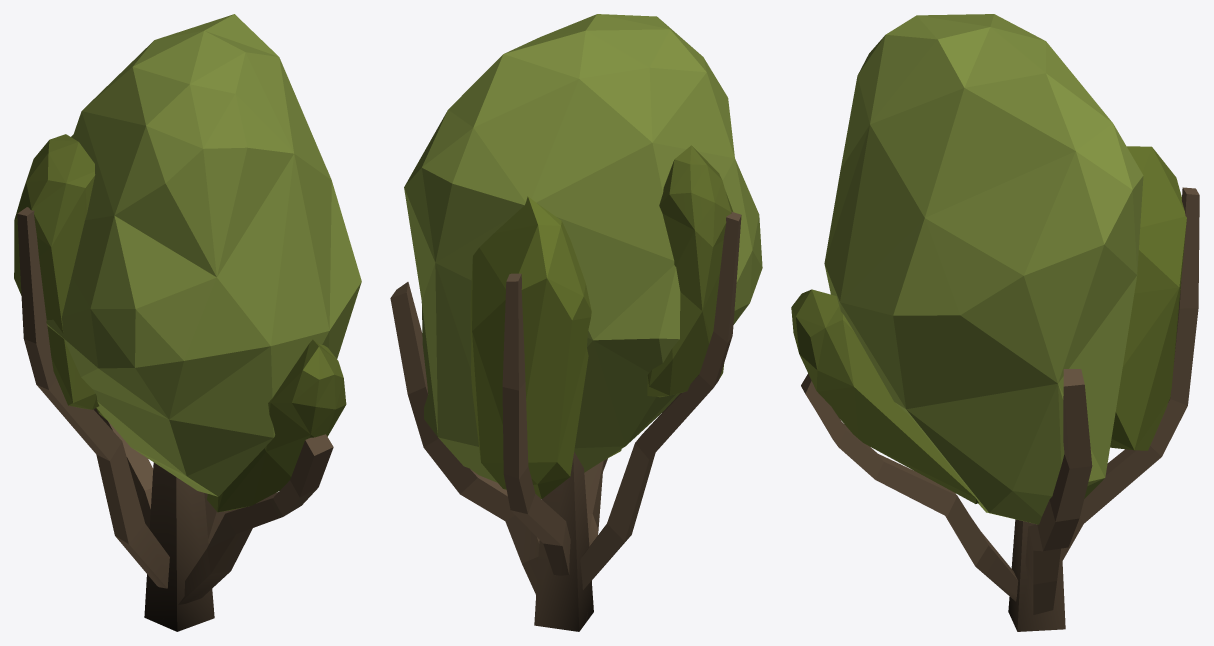
Rendered from EA03_Nature_Bush_02b.glb.
3 views of the same model, side by side, from view 1: azimuth 30°, elevation 25°; view 2: azimuth 150°, elevation 25°; view 3: azimuth 270°, elevation 25° (orthographic). The views are drawn at different scales.
Visible parts, largest first — view 1: EA03_Nature_Bush_02b; view 2: EA03_Nature_Bush_02b; view 3: EA03_Nature_Bush_02b.
Boxes of the visible parts, bbox=[...] form: EA03_Nature_Bush_02b: bbox=[14, 14, 361, 631]; EA03_Nature_Bush_02b: bbox=[390, 14, 762, 631]; EA03_Nature_Bush_02b: bbox=[791, 14, 1199, 631].
Size of the model in its own units: 2.14 by 3.67 by 2.28.
Materials: 1 (1 with a texture image).
